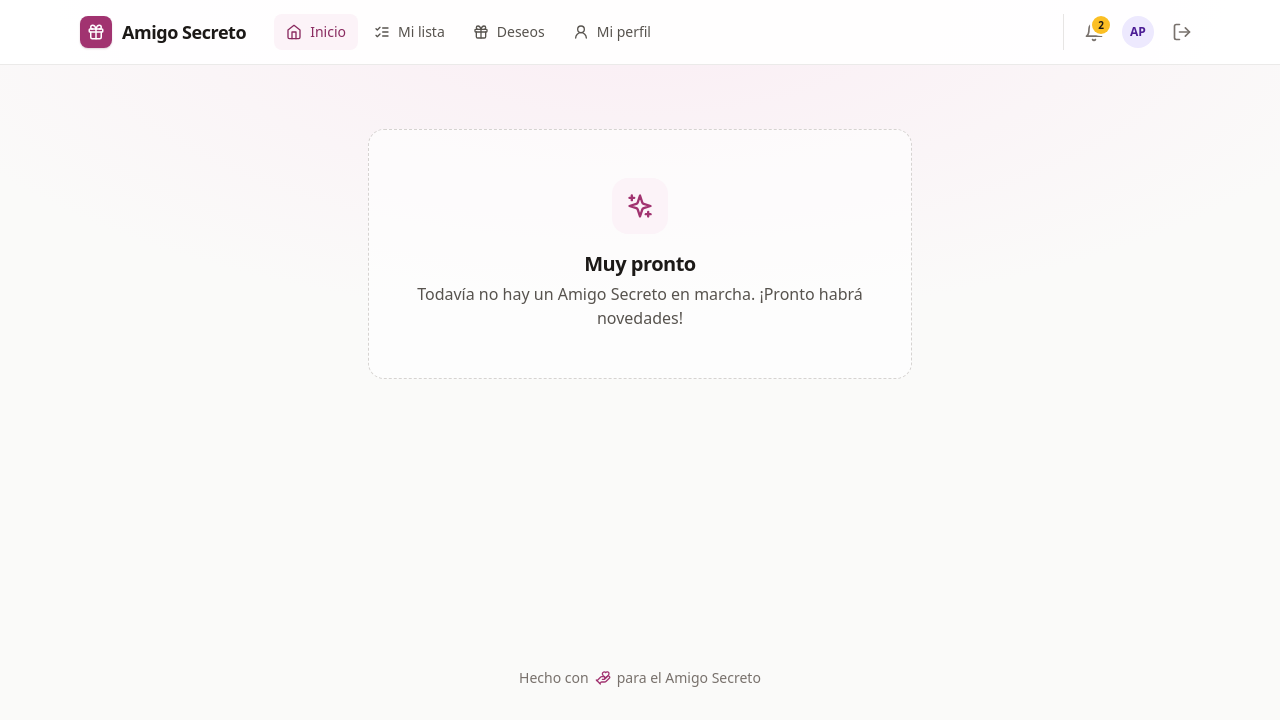
Test case: NotificationBell › se cierra con Esc
Click the button named "Notificaciones" at (1094, 32), box [1076, 14, 1112, 50]
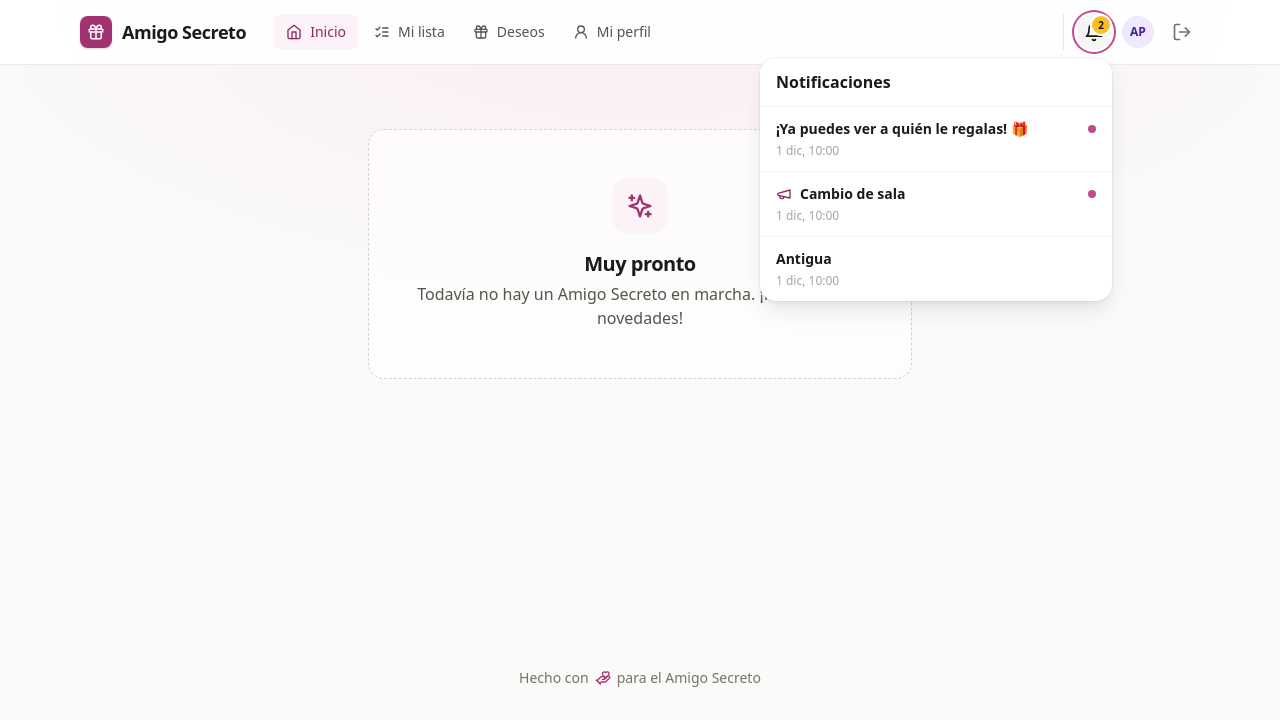
Press Escape
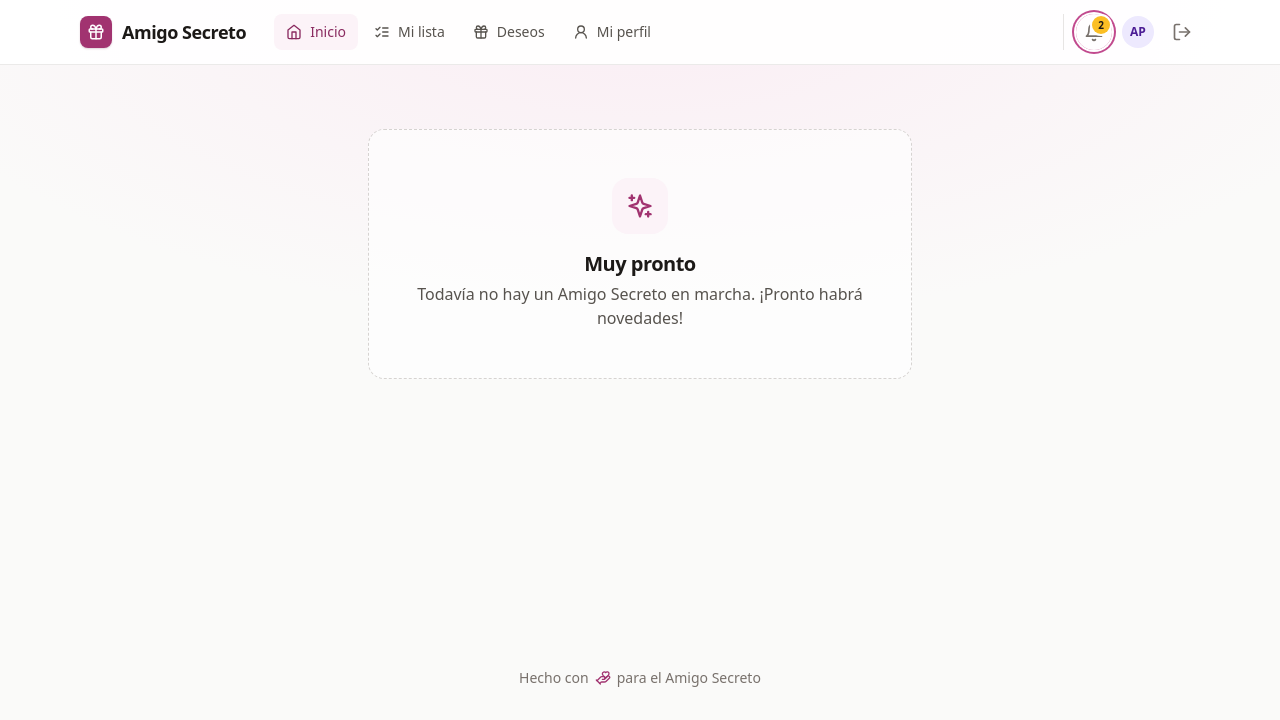
Check: the text "Notificaciones" is gone
